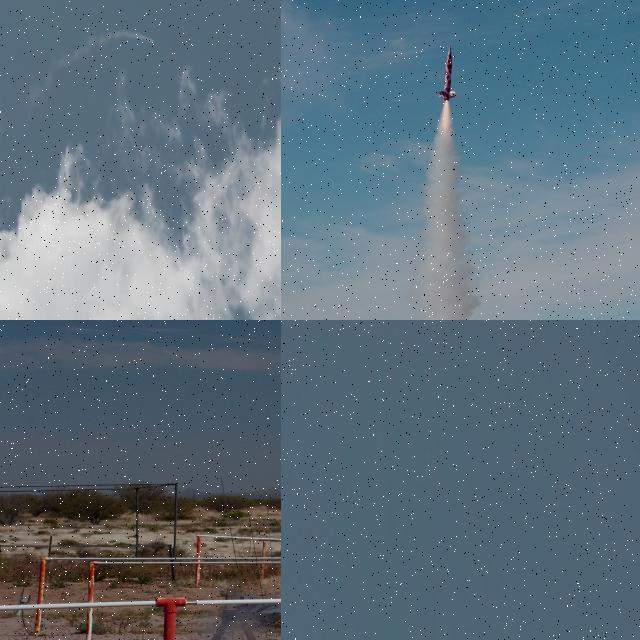Rocket: (438, 44, 456, 102), (152, 38, 156, 45)
